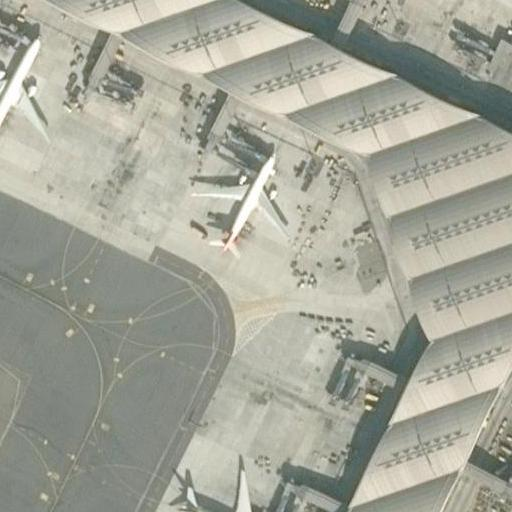Aircraft: (187, 139, 292, 261), (0, 18, 54, 169), (169, 462, 299, 512)
